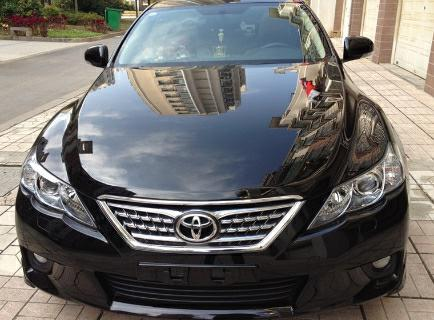丰田-锐志: (9, 2, 418, 319)
